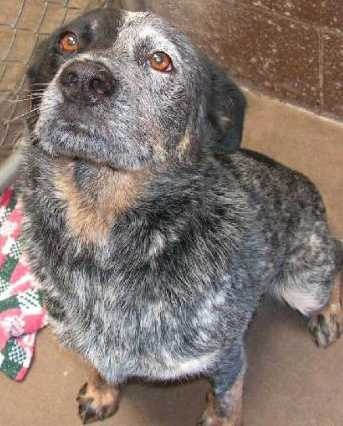dog: (2, 11, 343, 426)
